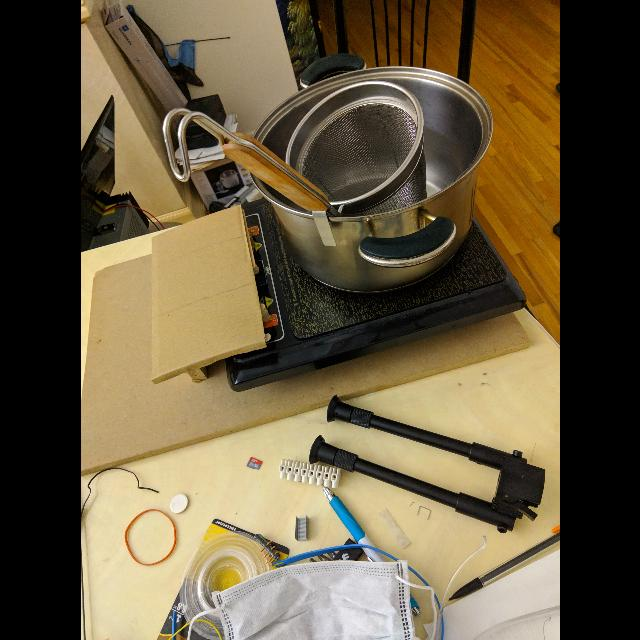Handle: (157, 104, 335, 218)
Strainer: (290, 82, 422, 210)
